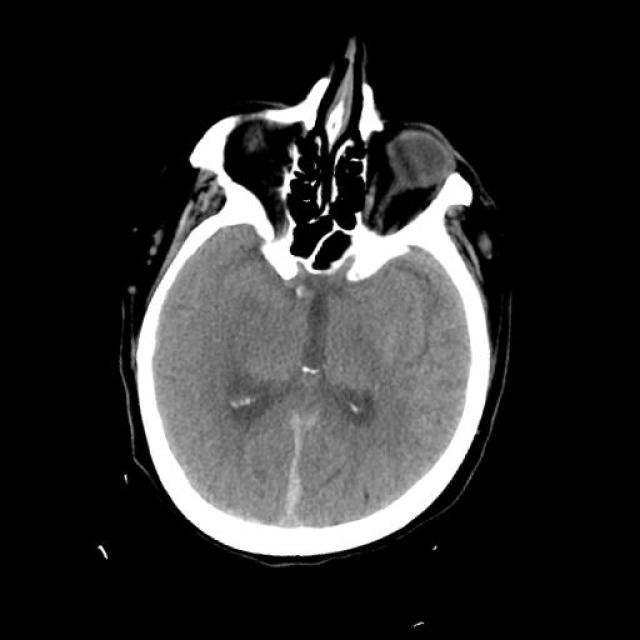Subdural: (250, 400, 340, 548)
